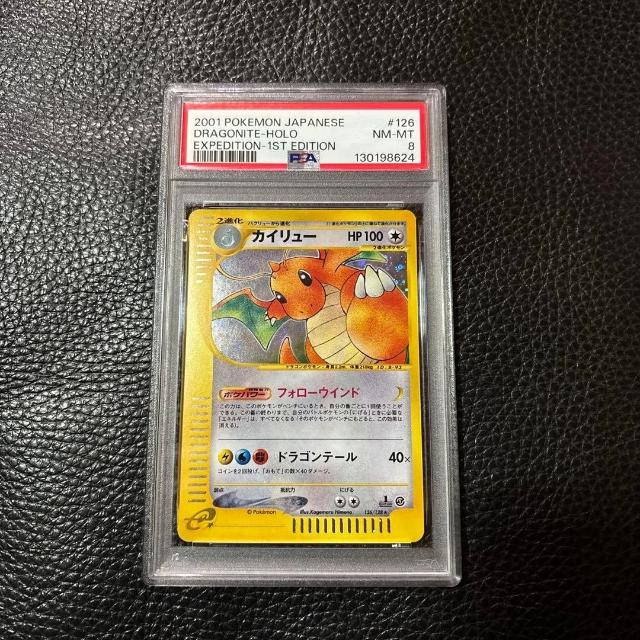Card: (171, 203, 433, 548)
Name: (247, 226, 320, 249)
